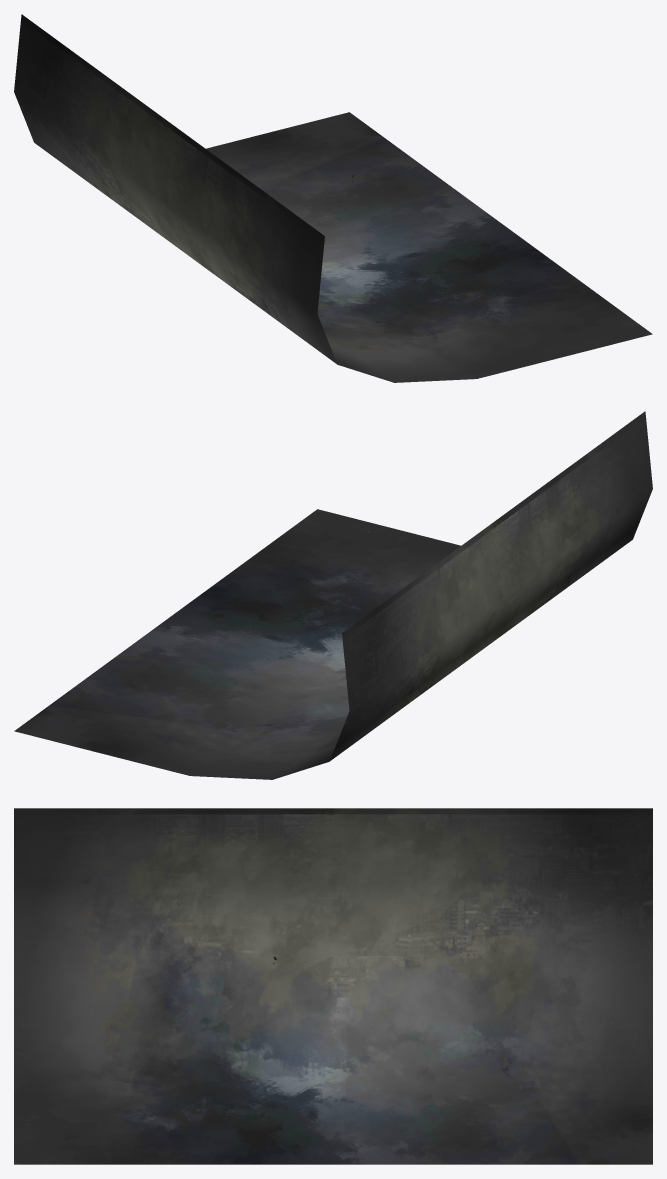
File: BATTLE.fbx
The picture shows the model from 3 angles, top to bottom: view 1: azimuth 30°, elevation 25°; view 2: azimuth 150°, elevation 25°; view 3: azimuth 270°, elevation 25°; orthographic projection. The views are drawn at different scales.
Parts seen in each view (by area): view 1: S_Background_Chernobog_B; view 2: S_Background_Chernobog_B; view 3: S_Background_Chernobog_B.
Boxes of the visible parts, box(x1,y1,x2,y2) form: S_Background_Chernobog_B: box(14, 14, 652, 382); S_Background_Chernobog_B: box(14, 411, 652, 779); S_Background_Chernobog_B: box(14, 808, 652, 1164).
Size of the model in its own units: 91.45 by 46.87 by 143.
